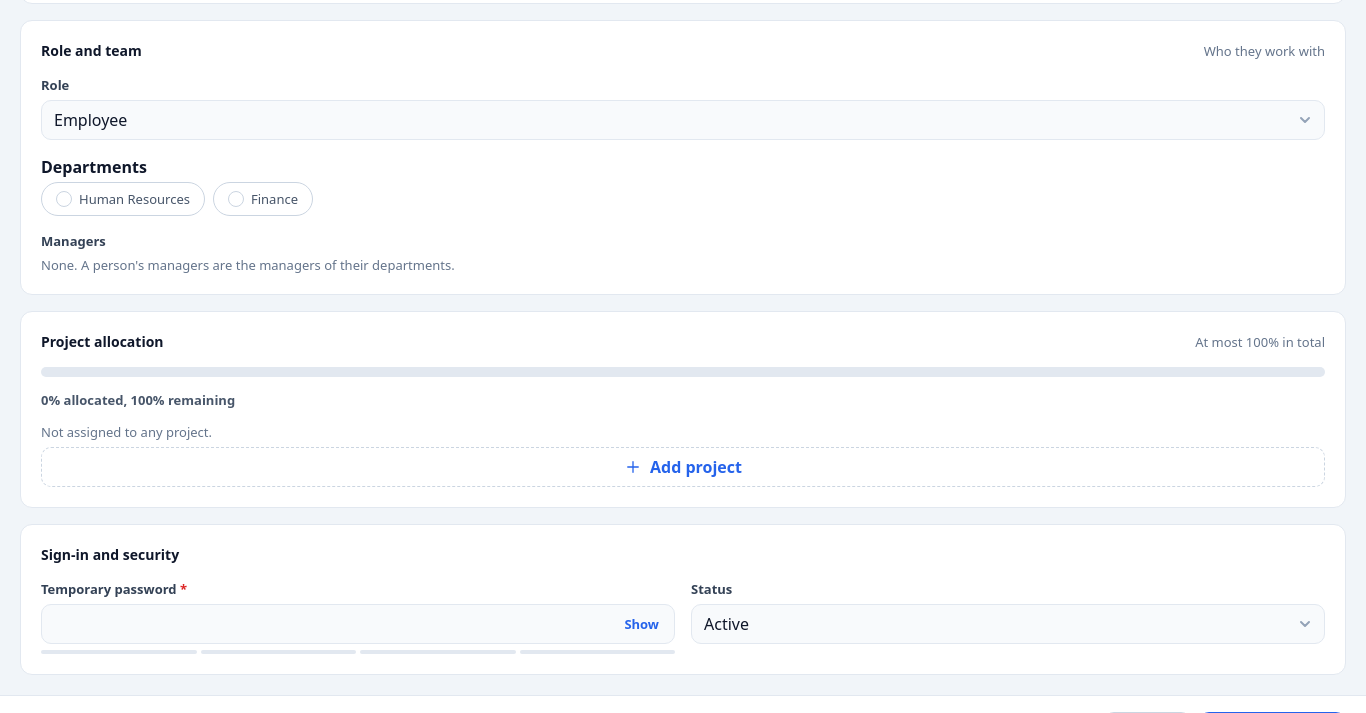
Test: EmployeeFormPanelComponent › project allocations › removes a row and frees its percentage
(page scrolled)
Click the button "Add project" at [683, 467], box x1=41 y1=447 x2=1325 y2=487
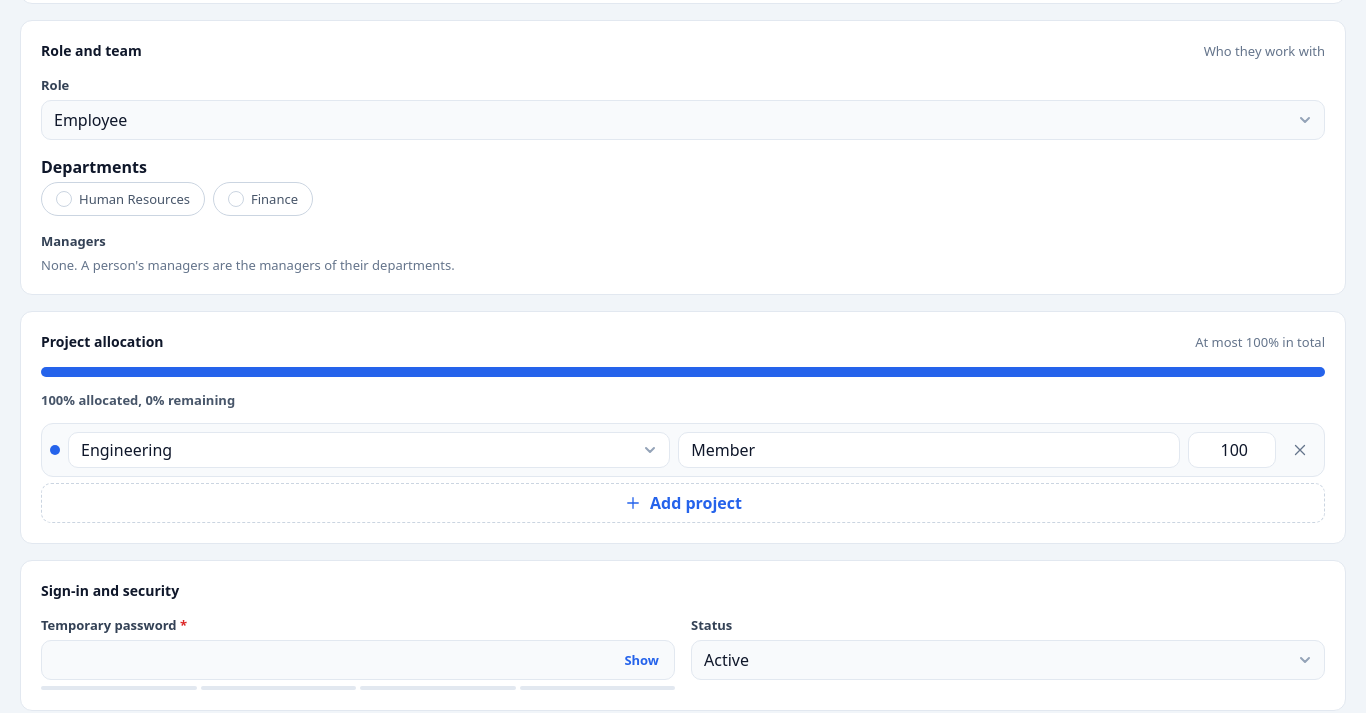
Click the button named "Remove project 1" at [1300, 450], box x1=1284 y1=434 x2=1316 y2=466
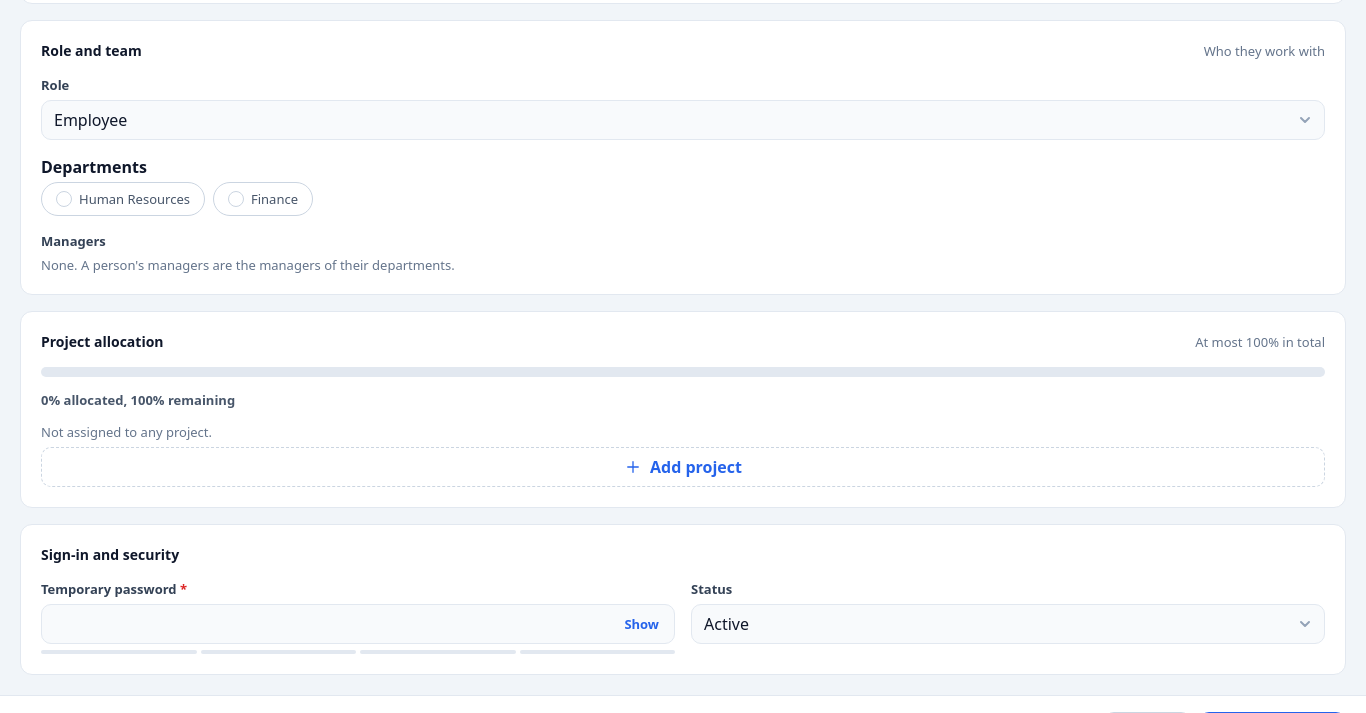
Check: the text "0% allocated, 100% remaining" is shown, box x1=41 y1=391 x2=235 y2=409
